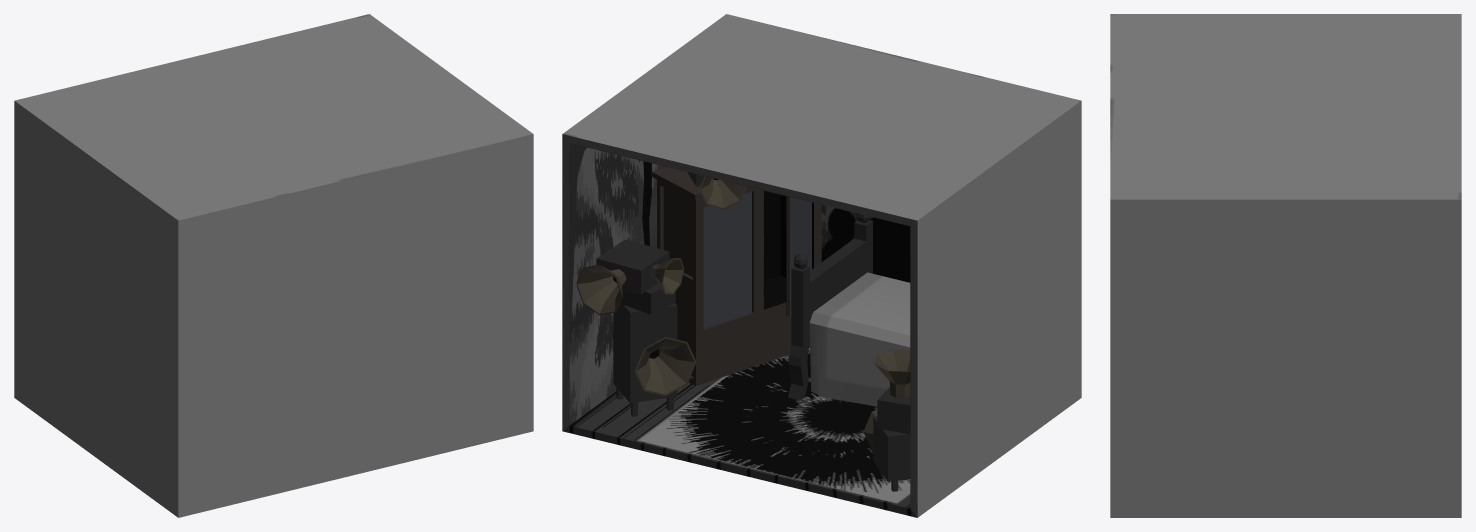
File: VoiceRoom.fbx
3 renders of one model, left to right at view 1: azimuth 30°, elevation 25°; view 2: azimuth 150°, elevation 25°; view 3: azimuth 270°, elevation 25°, orthographic. The views are drawn at different scales.
Parts seen in each view (by area): view 1: VoiceWall; view 2: VoiceWall, VoicwCloset, VoiceBed, VoiceOranment4, VoiceOranment5, VoiceOranment3, VoiceOranment; view 3: VoiceWall.
Boxes of the visible parts, left/top/right/bottom form: VoiceWall: left=14, top=14, right=533, bottom=517; VoiceWall: left=562, top=14, right=1081, bottom=517; VoicwCloset: left=652, top=167, right=821, bottom=385; VoiceBed: left=788, top=213, right=910, bottom=406; VoiceOranment4: left=576, top=239, right=696, bottom=416; VoiceOranment5: left=875, top=349, right=910, bottom=434; VoiceOranment3: left=863, top=409, right=910, bottom=491; VoiceOranment: left=687, top=172, right=746, bottom=209; VoiceWall: left=1110, top=14, right=1461, bottom=517.
Bounding box in the file's own units: 500 × 400 × 400.
1 material, 1 textured.
